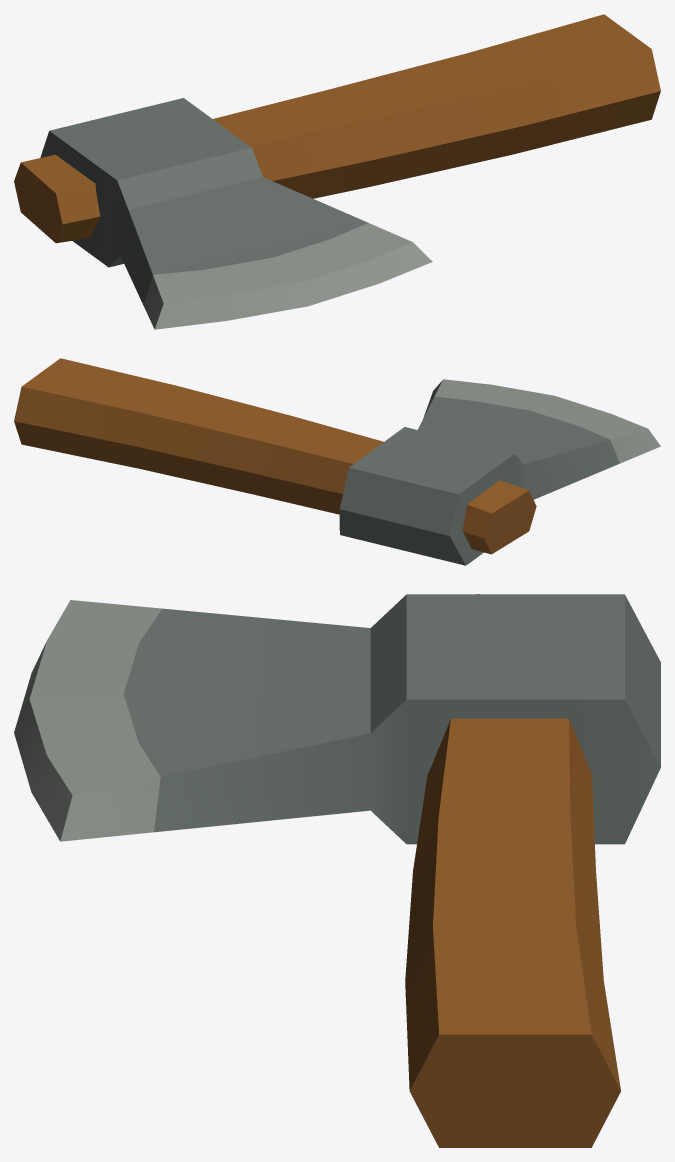
Rendered from SM_Hatchet.fbx.
3 renders of one model, top to bottom at view 1: azimuth 30°, elevation 25°; view 2: azimuth 150°, elevation 25°; view 3: azimuth 270°, elevation 25°, orthographic. The views are drawn at different scales.
Visible parts, largest first — view 1: SM_Hatchet; view 2: SM_Hatchet; view 3: SM_Hatchet.
Part boxes in pixels (<box>): SM_Hatchet: <box>14,14,660,329</box>; SM_Hatchet: <box>14,358,660,565</box>; SM_Hatchet: <box>14,594,660,1147</box>.
Size of the model in its own units: 39.97 by 5.27 by 22.7.
